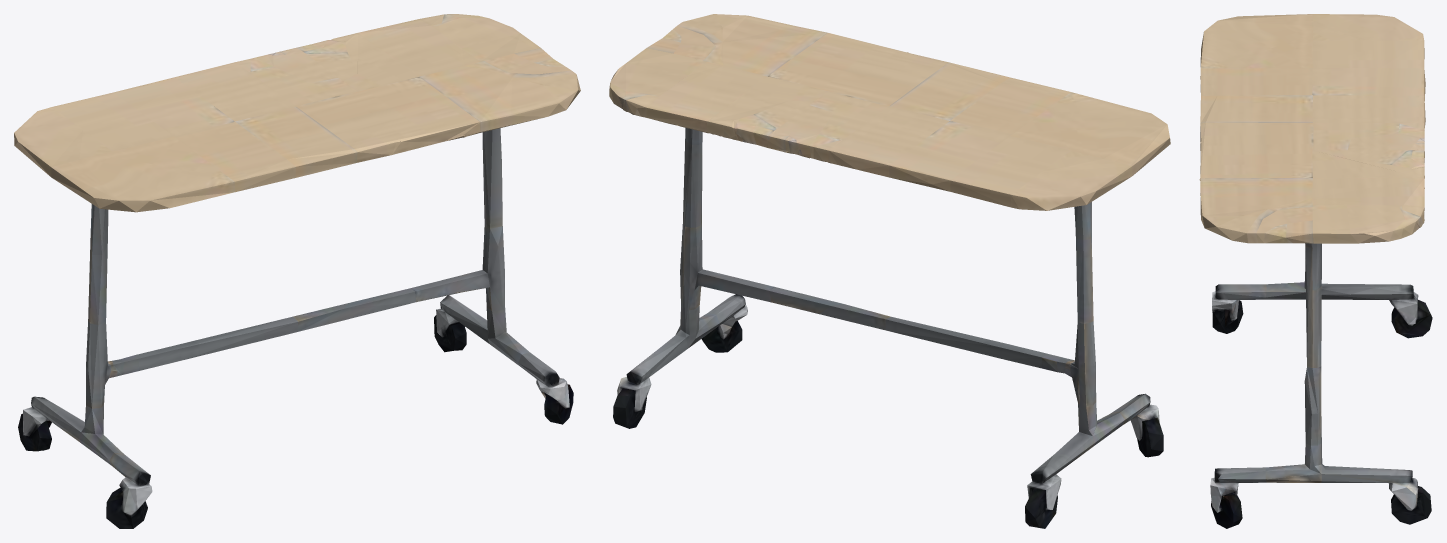
3 renders of one model, left to right at view 1: azimuth 30°, elevation 25°; view 2: azimuth 150°, elevation 25°; view 3: azimuth 270°, elevation 25°, orthographic. The views are drawn at different scales.
Visible parts, largest first — view 1: geometry_0; view 2: geometry_0; view 3: geometry_0.
Boxes of the visible parts, x1=… form: geometry_0: x1=14, y1=14, x2=580, y2=528; geometry_0: x1=609, y1=14, x2=1170, y2=528; geometry_0: x1=1199, y1=14, x2=1432, y2=528.
Bounding box in the file's own units: 1.53 × 0.9989 × 0.6884.
Materials: 1 (1 with a texture image).
